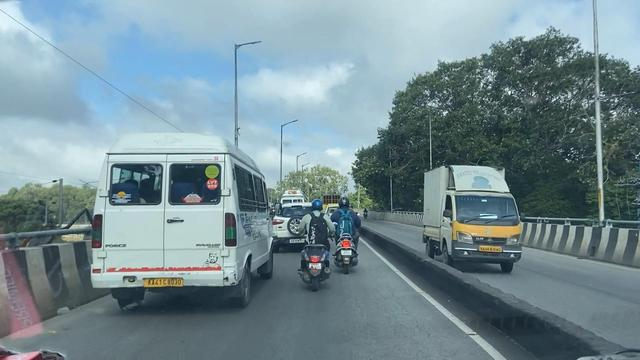HMV: (89, 140, 278, 309)
LMV: (302, 196, 344, 297), (327, 197, 357, 279)
